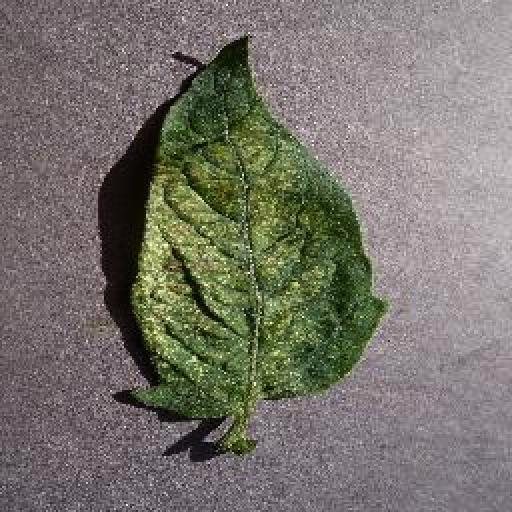disease_tomato: (122, 28, 388, 416)
